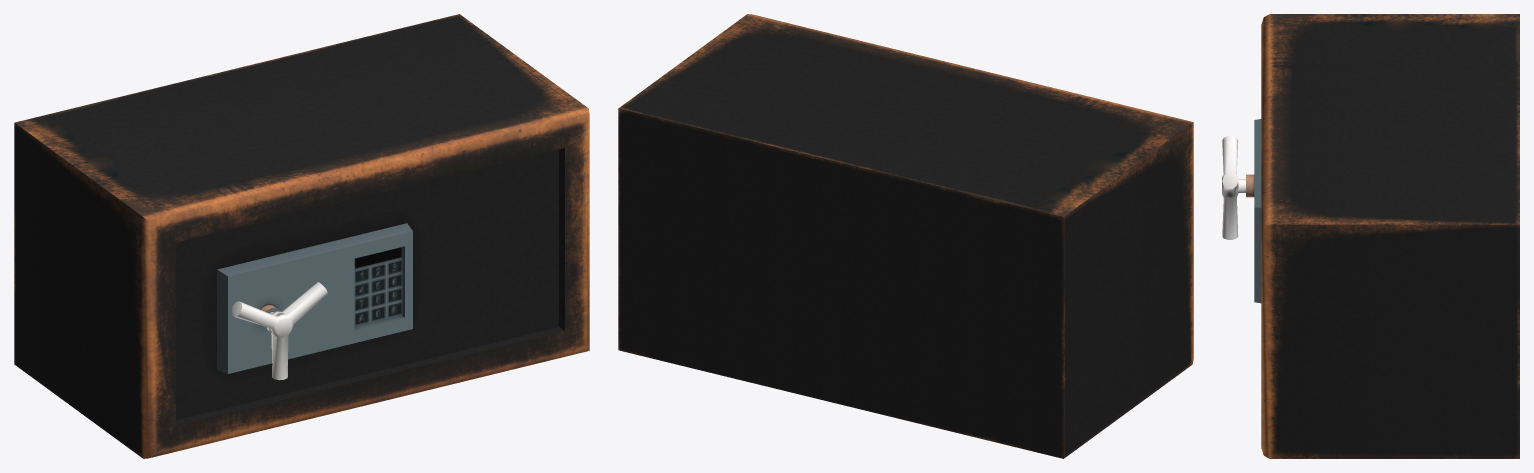
The model's file is SafeBox.fbx.
The picture shows the model from 3 angles, left to right: view 1: azimuth 30°, elevation 25°; view 2: azimuth 150°, elevation 25°; view 3: azimuth 270°, elevation 25°; orthographic projection. The views are drawn at different scales.
Visible parts, largest first — view 1: Box, Door, Crank.001; view 2: Box; view 3: Box, Crank.001, Door.
Part boxes in pixels (x1=…): Box: x1=14, y1=14, x2=589, y2=458; Door: x1=176, y1=149, x2=558, y2=420; Crank.001: x1=231, y1=282, x2=328, y2=380; Box: x1=618, y1=14, x2=1193, y2=458; Box: x1=1261, y1=14, x2=1519, y2=458; Crank.001: x1=1222, y1=136, x2=1245, y2=239; Door: x1=1246, y1=119, x2=1261, y2=303.
Bounding box in the file's own units: 385 × 200 × 230.
1 material, 1 textured.
